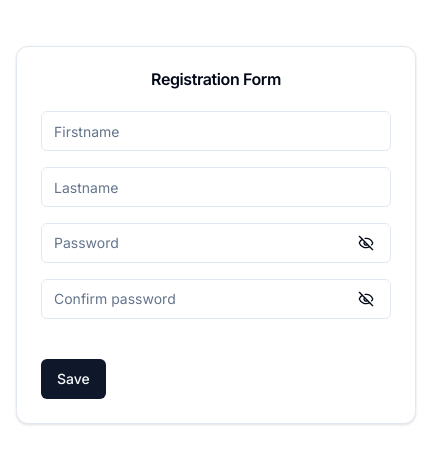
Test: Register Component › should show validation errors when password and confirm password dont match
Type "test-password" into the password field with placeholder "Password" at (202, 243), box [46,225,358,261]
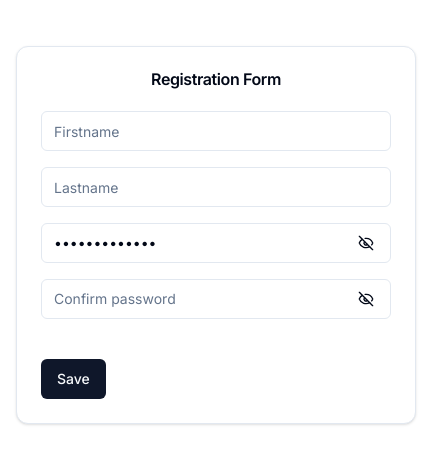
Type "test" into the password field with placeholder "Confirm password" at (202, 299), box [46,281,358,317]
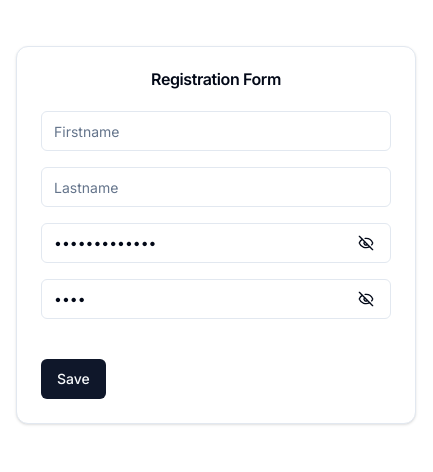
Click the button "Save" at (73, 379), box [41,359,106,399]
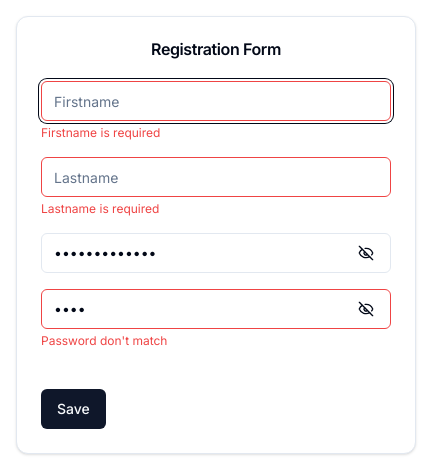
Expected: the text "Password don't match" is shown, [41,333,168,348]
